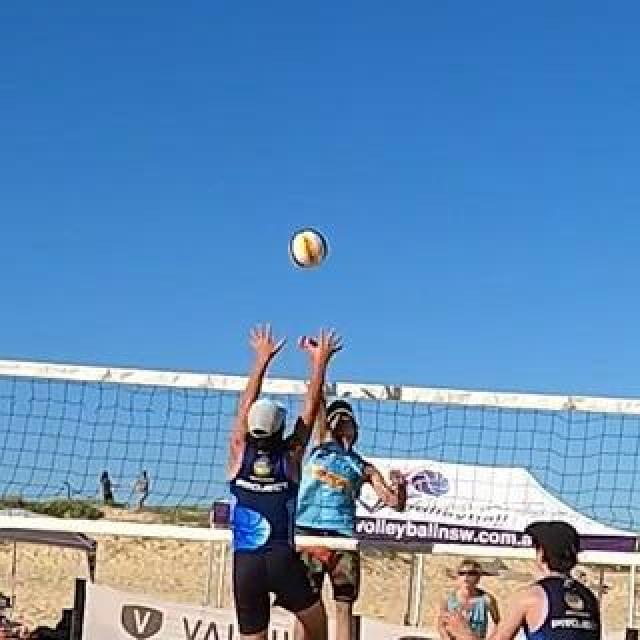volleyball: (289, 229, 325, 267)
